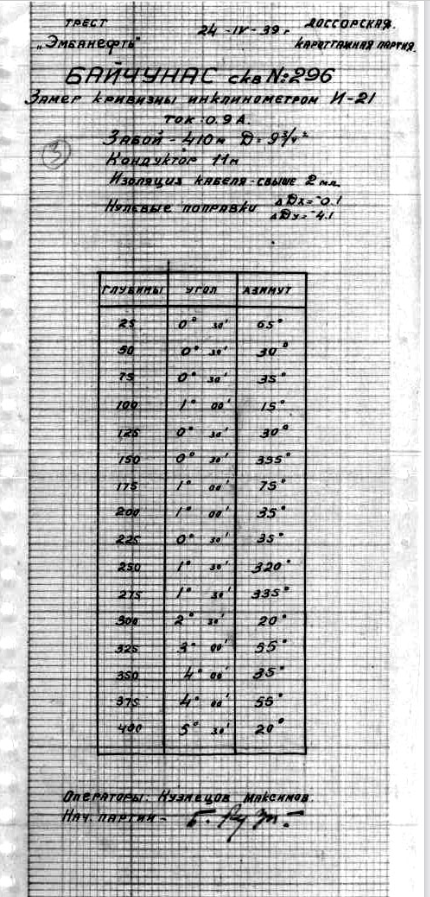Bordered: (98, 272, 305, 757)
